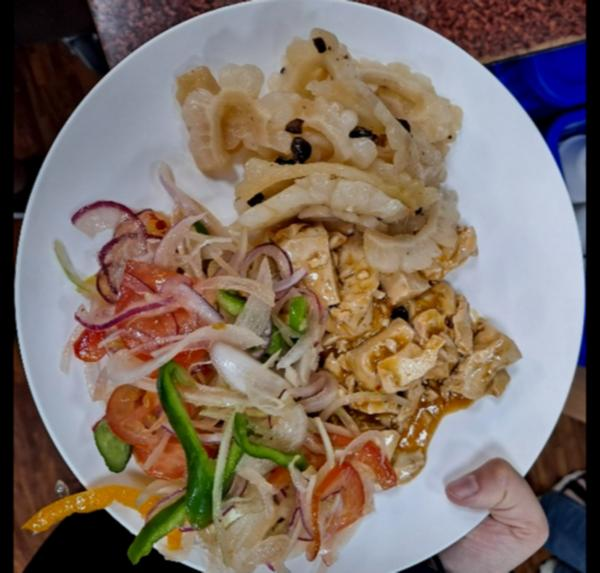plate: (26, 0, 580, 573)
side dish: (57, 214, 318, 564), (178, 45, 470, 242), (320, 219, 512, 419)
